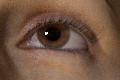eye: (38, 25, 70, 47)
